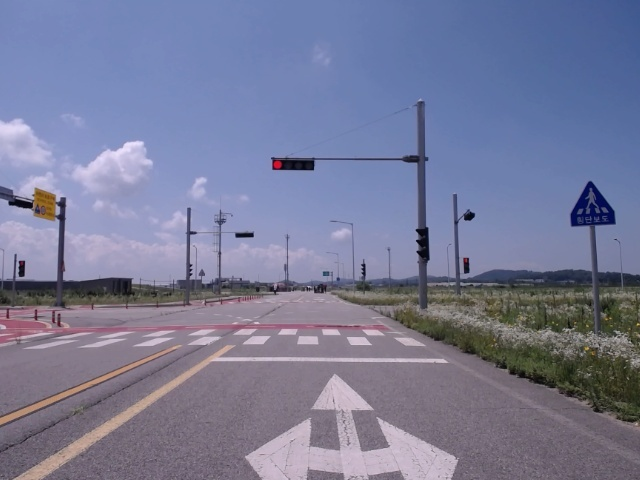red_4: (272, 159, 314, 170)
